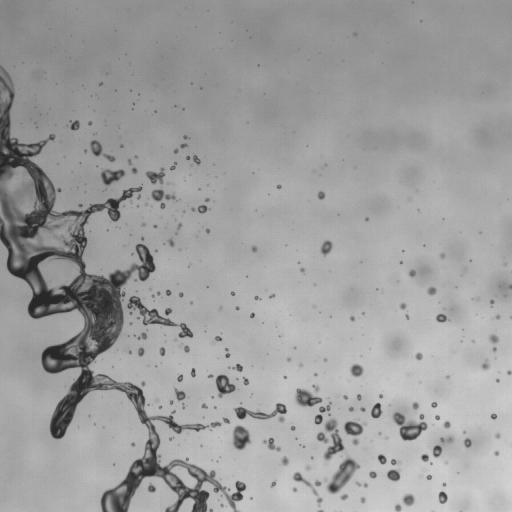droplet: (316, 418, 345, 462), (392, 412, 427, 440), (294, 385, 322, 407), (344, 421, 366, 445), (151, 189, 175, 209), (232, 425, 251, 450), (215, 374, 235, 397), (100, 169, 125, 185), (146, 167, 164, 184), (320, 240, 332, 256), (371, 402, 382, 418), (350, 364, 363, 377), (386, 469, 400, 481), (402, 494, 414, 506), (174, 388, 185, 401), (432, 445, 442, 457), (438, 491, 447, 503), (436, 313, 447, 322), (481, 359, 490, 370), (70, 120, 79, 130), (197, 205, 208, 213), (191, 155, 200, 164), (427, 286, 436, 295), (489, 334, 498, 343), (378, 454, 386, 464), (147, 483, 155, 492), (317, 191, 325, 199), (233, 364, 242, 371), (464, 438, 471, 447), (281, 456, 288, 465), (138, 332, 146, 339), (415, 352, 422, 360), (369, 471, 377, 478), (138, 347, 144, 356), (391, 459, 400, 465), (412, 402, 419, 409), (443, 421, 450, 428), (421, 454, 428, 461), (159, 347, 165, 355), (243, 377, 249, 385), (222, 417, 230, 423), (168, 239, 174, 246), (183, 345, 189, 352), (341, 494, 348, 500), (395, 504, 401, 511), (131, 167, 137, 173), (409, 270, 415, 276), (400, 303, 406, 309), (270, 481, 276, 487), (180, 143, 187, 148), (214, 336, 221, 341), (177, 374, 182, 381), (251, 246, 256, 252), (431, 402, 437, 407), (491, 413, 496, 419), (360, 497, 365, 503), (191, 369, 195, 376), (440, 253, 445, 258), (166, 290, 171, 295), (350, 316, 355, 321), (495, 433, 500, 438), (305, 465, 310, 470), (177, 223, 181, 229), (269, 294, 275, 298), (254, 296, 260, 300), (357, 394, 361, 400), (183, 135, 188, 139), (179, 292, 183, 297), (490, 300, 494, 305), (141, 381, 145, 386), (348, 407, 353, 411), (360, 407, 365, 411), (494, 451, 499, 455), (426, 475, 431, 479), (292, 487, 297, 491), (174, 149, 178, 153), (300, 268, 304, 272), (250, 313, 254, 317), (492, 347, 496, 351), (507, 370, 511, 374), (202, 404, 206, 408), (435, 415, 439, 419), (291, 426, 295, 430), (128, 159, 131, 164), (276, 185, 281, 188), (190, 207, 195, 210), (206, 228, 209, 233), (88, 121, 91, 125), (405, 315, 409, 318), (208, 374, 212, 377), (343, 395, 347, 398), (182, 404, 185, 408), (131, 443, 135, 446), (509, 284, 511, 289), (186, 156, 189, 159), (137, 195, 140, 198), (205, 198, 208, 201), (78, 204, 81, 207), (142, 223, 145, 226), (231, 292, 234, 295), (236, 306, 239, 309), (496, 315, 499, 318), (287, 358, 290, 361), (446, 375, 449, 378), (379, 394, 382, 397), (155, 398, 158, 401), (365, 218, 368, 220), (157, 292, 160, 294), (128, 351, 131, 353), (324, 358, 326, 361), (496, 379, 499, 381), (158, 406, 161, 408), (170, 437, 172, 440), (443, 483, 445, 486), (220, 504, 223, 506), (145, 203, 147, 205), (154, 225, 156, 227), (299, 364, 301, 366), (314, 373, 316, 375), (170, 401, 172, 403), (385, 437, 387, 439), (445, 462, 447, 464)
ligament: (0, 65, 243, 511), (127, 296, 193, 337), (324, 454, 359, 494), (292, 472, 322, 506), (234, 403, 286, 422), (90, 140, 115, 161), (315, 403, 331, 424), (263, 437, 281, 451), (440, 436, 454, 443), (356, 482, 367, 487), (170, 162, 176, 170), (225, 348, 229, 357), (318, 510, 322, 511)
